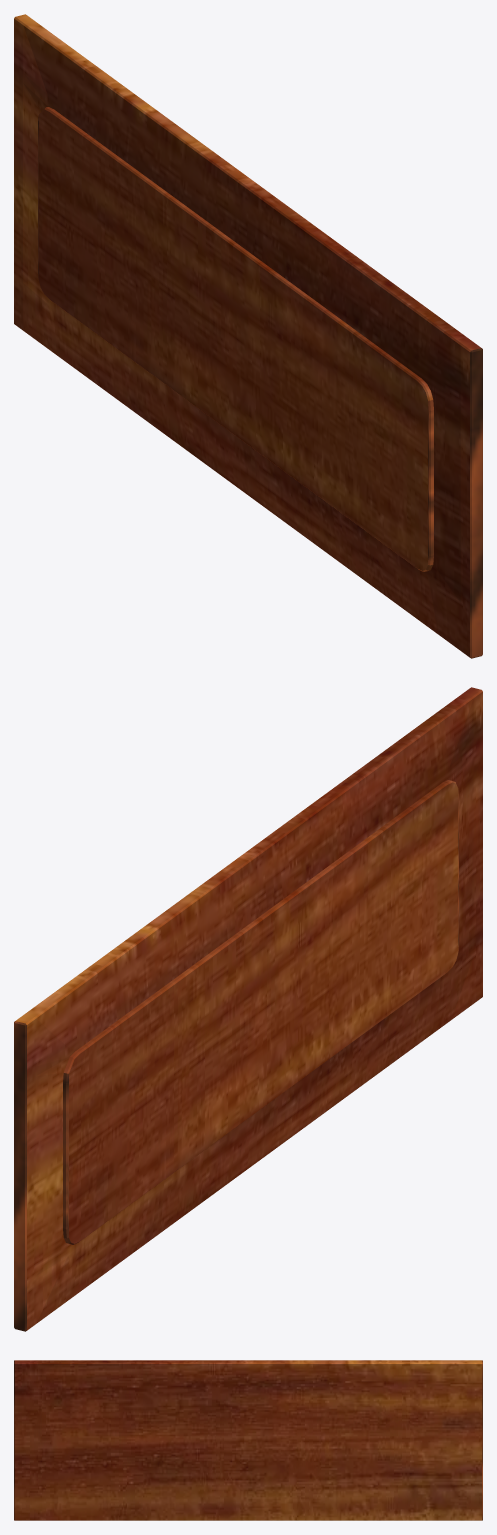
File: SJ_J_ceban_02.FBX
The picture shows the model from 3 angles, top to bottom: view 1: azimuth 30°, elevation 25°; view 2: azimuth 150°, elevation 25°; view 3: azimuth 270°, elevation 25°; orthographic projection. The views are drawn at different scales.
Visible parts, largest first — view 1: SJ_J_ceban_02; view 2: SJ_J_ceban_02; view 3: SJ_J_ceban_02.
Part boxes in pixels (bbox=[...]): SJ_J_ceban_02: bbox=[14, 14, 482, 658]; SJ_J_ceban_02: bbox=[14, 687, 482, 1331]; SJ_J_ceban_02: bbox=[14, 1360, 482, 1520].
Bounding box in the file's own units: 1 × 13.6 × 36.6.
